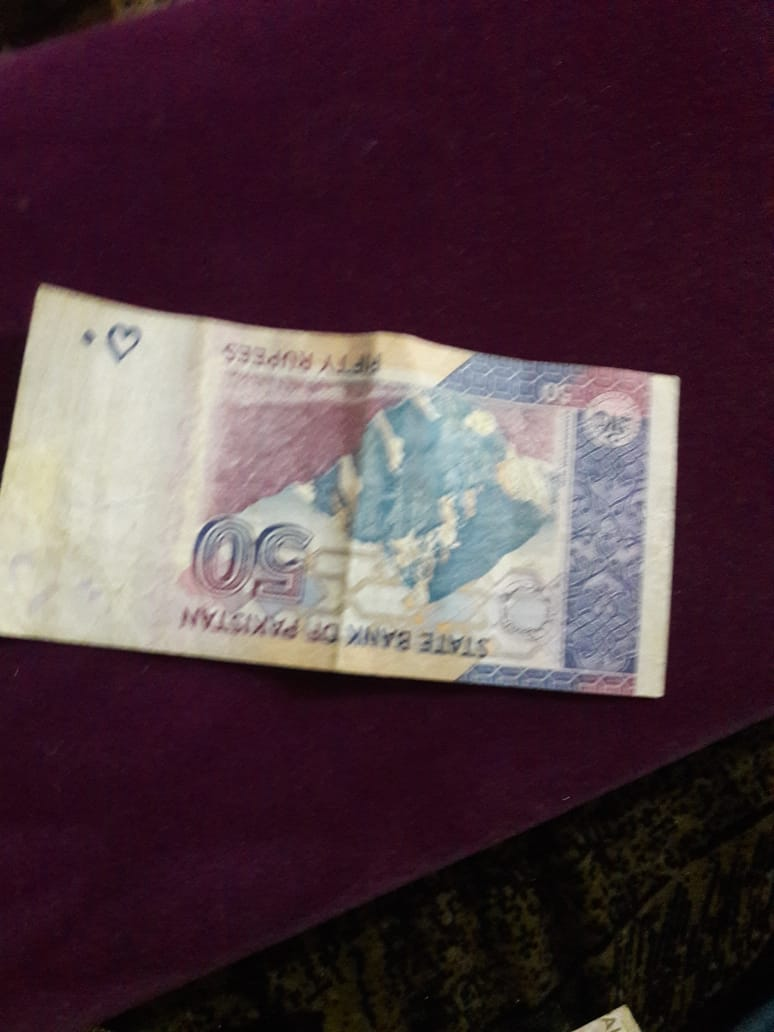50 rupee: (1, 268, 716, 771)
